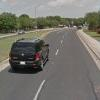Car: (7, 30, 58, 82)
